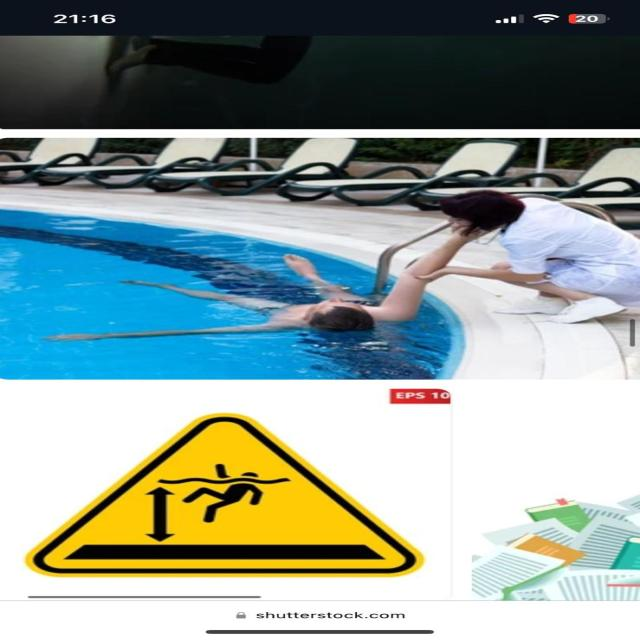Drowning: (121, 256, 428, 341)
